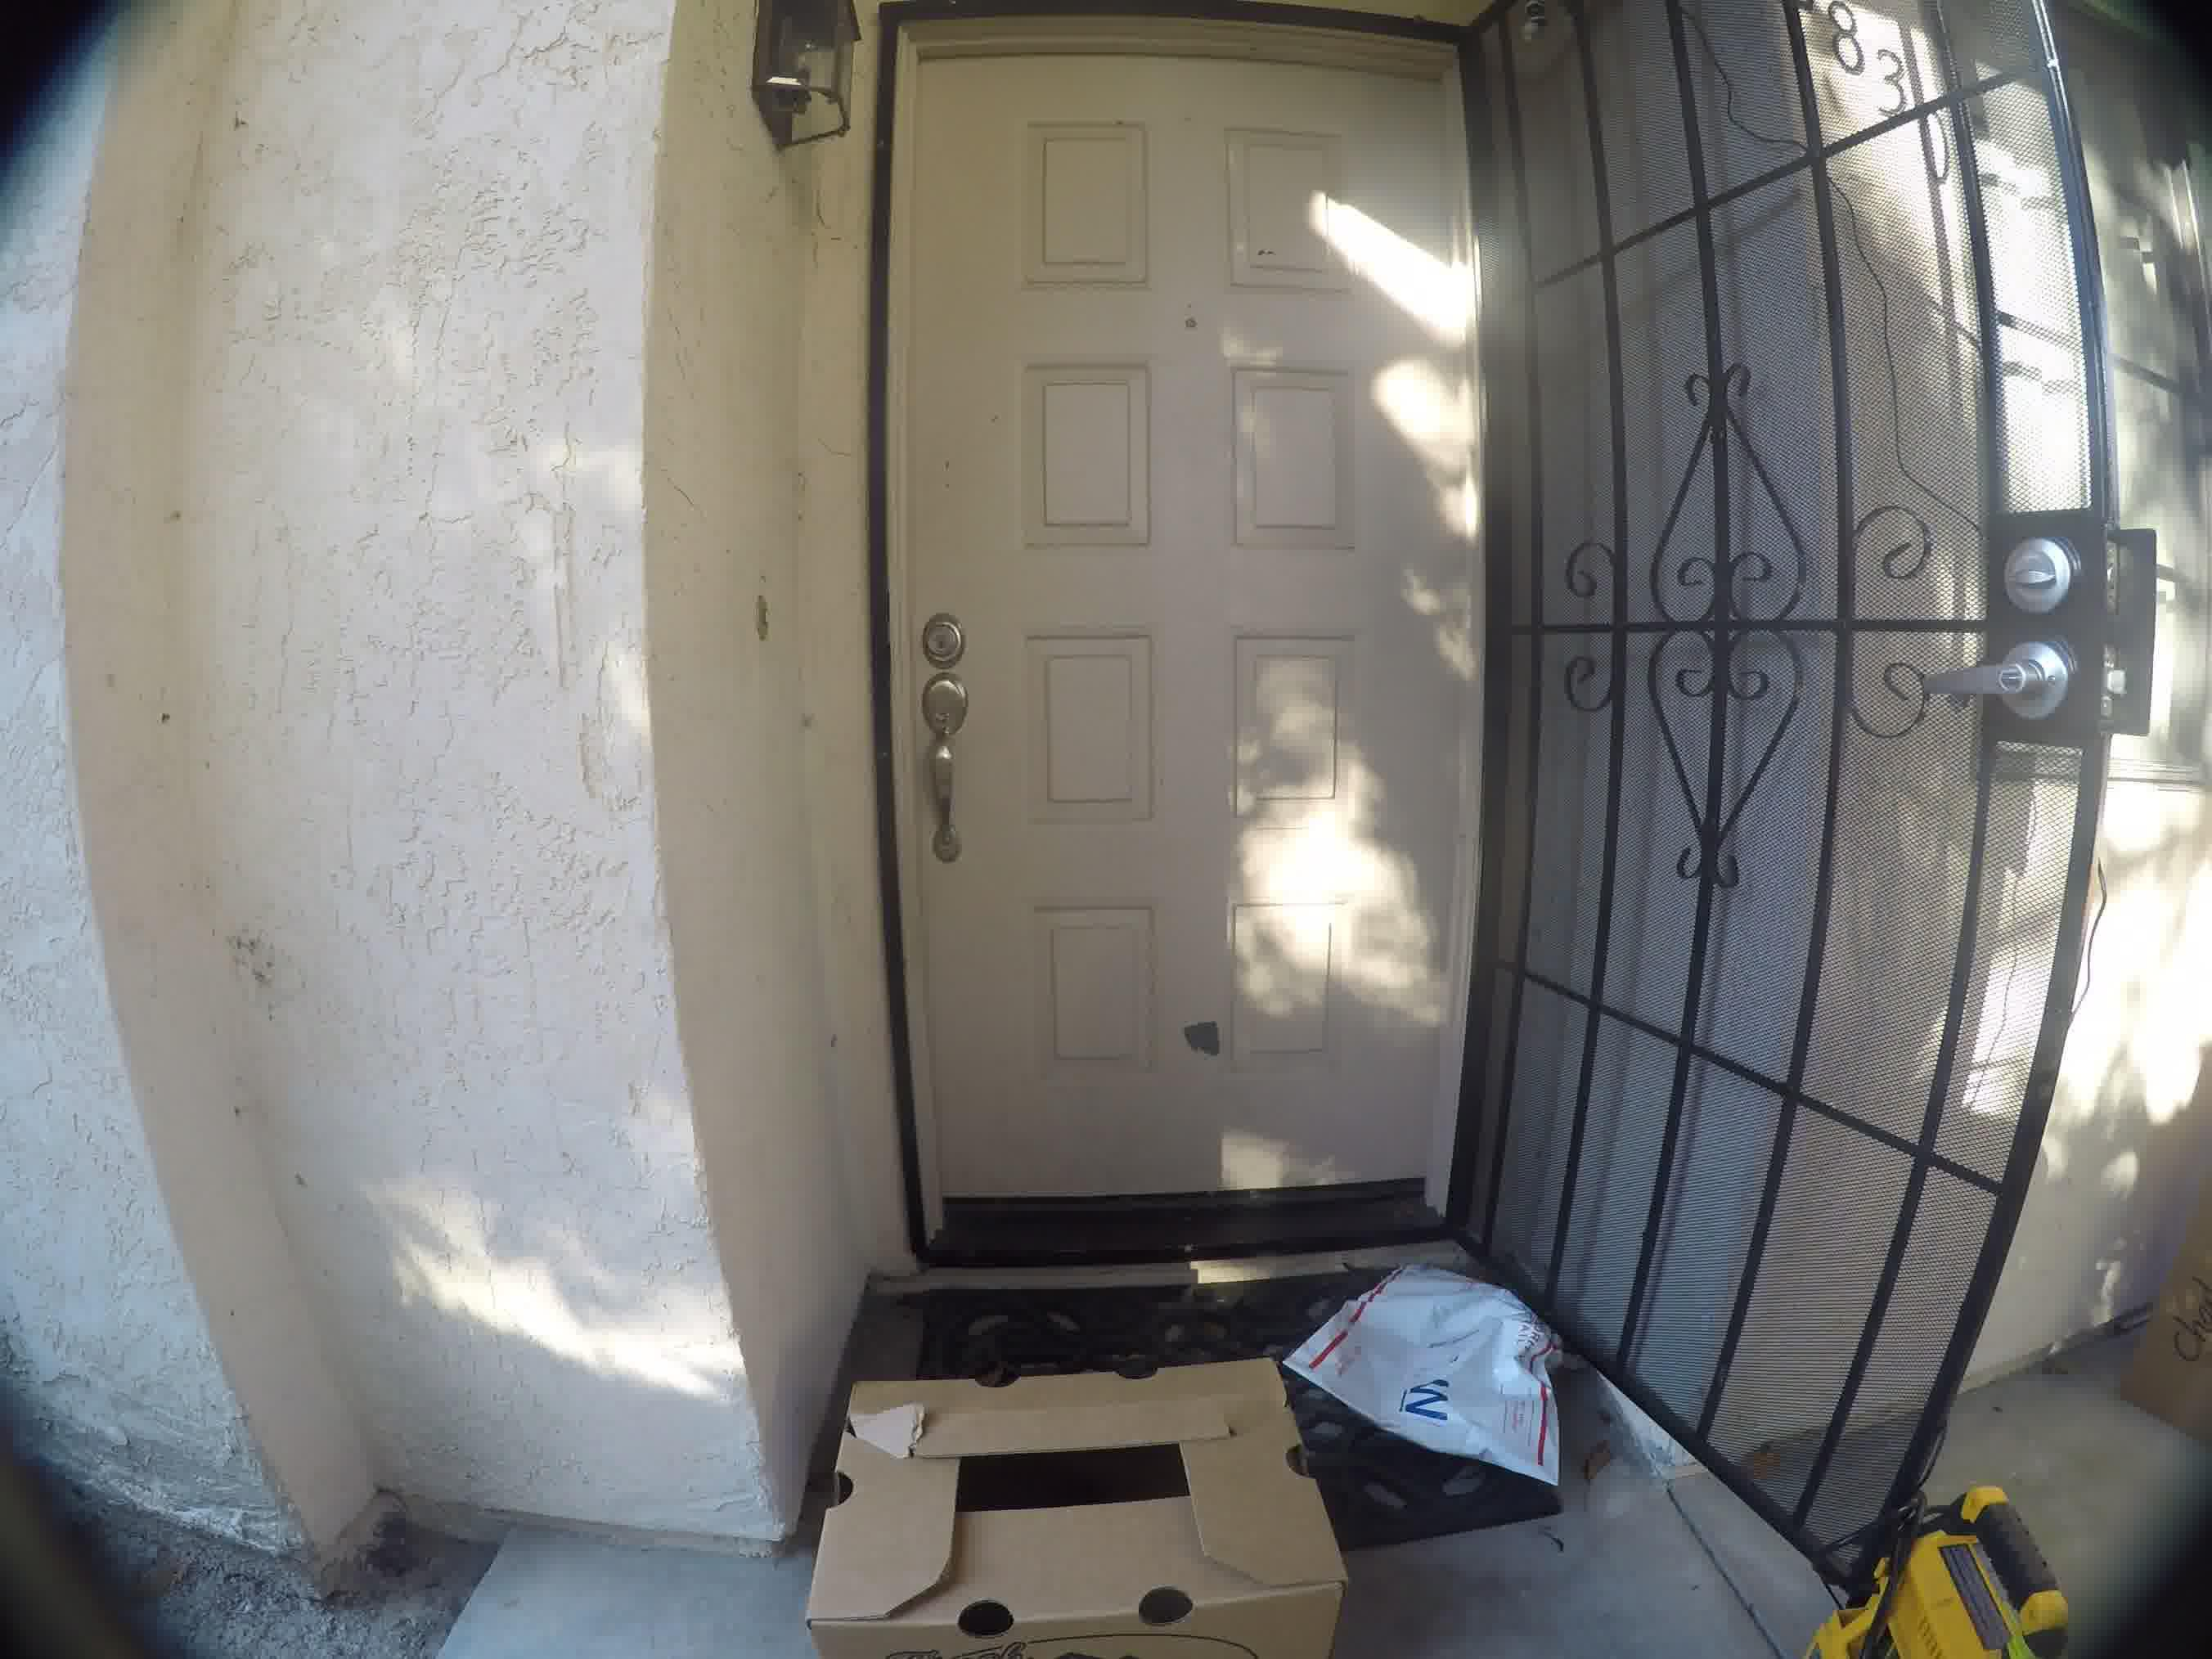box: (808, 1328, 1334, 1643)
plastic_bag: (1346, 1244, 1595, 1513)
